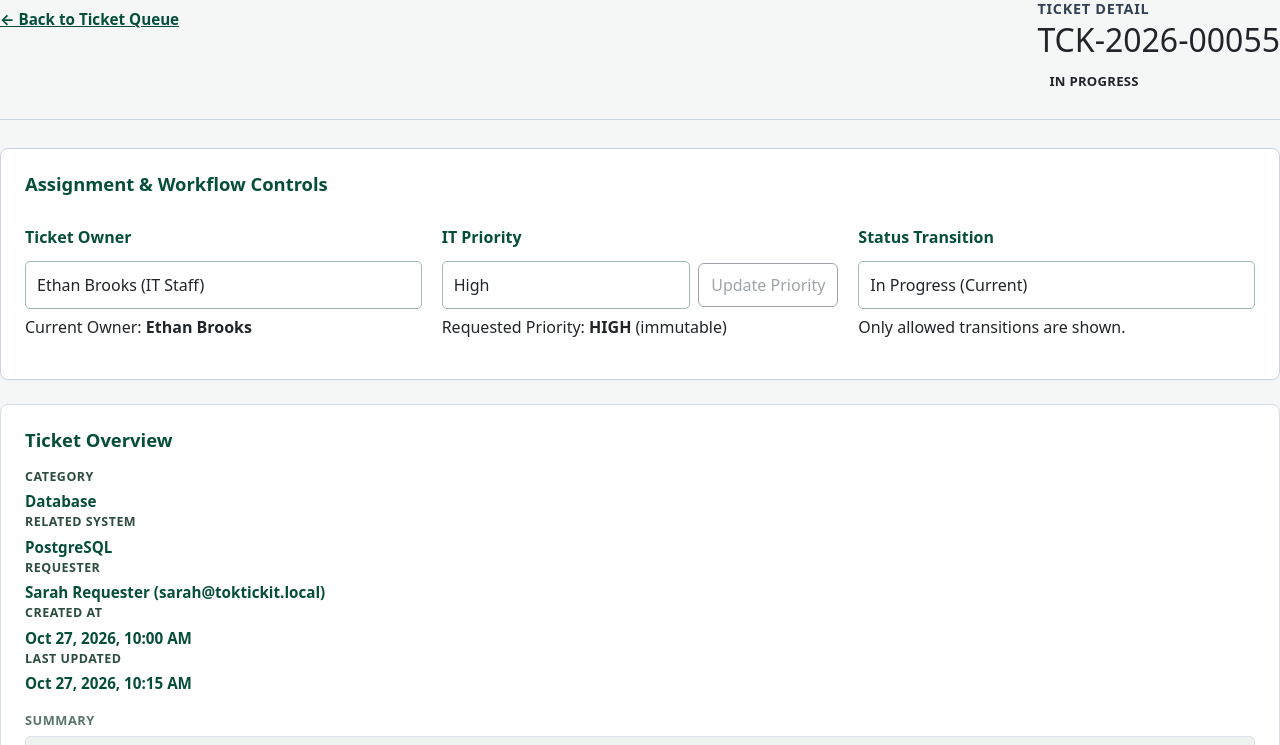
Test: Lab 4: TicketWorkflow Resolution Gate Feedback Tests › displays explicit resolution gate alert when resolving fails with unfulfilled prerequisites
This screenshot has width=1280, height=745.
Check: the heading "TCK-2026-00055" is shown, box 1038,21 -> 1279,60
Note: Select RESOLVED status from dropdown
Select "→ Resolved" in the dropdown labelled "Status Transition" at (1057, 285), box 858,261 -> 1255,309
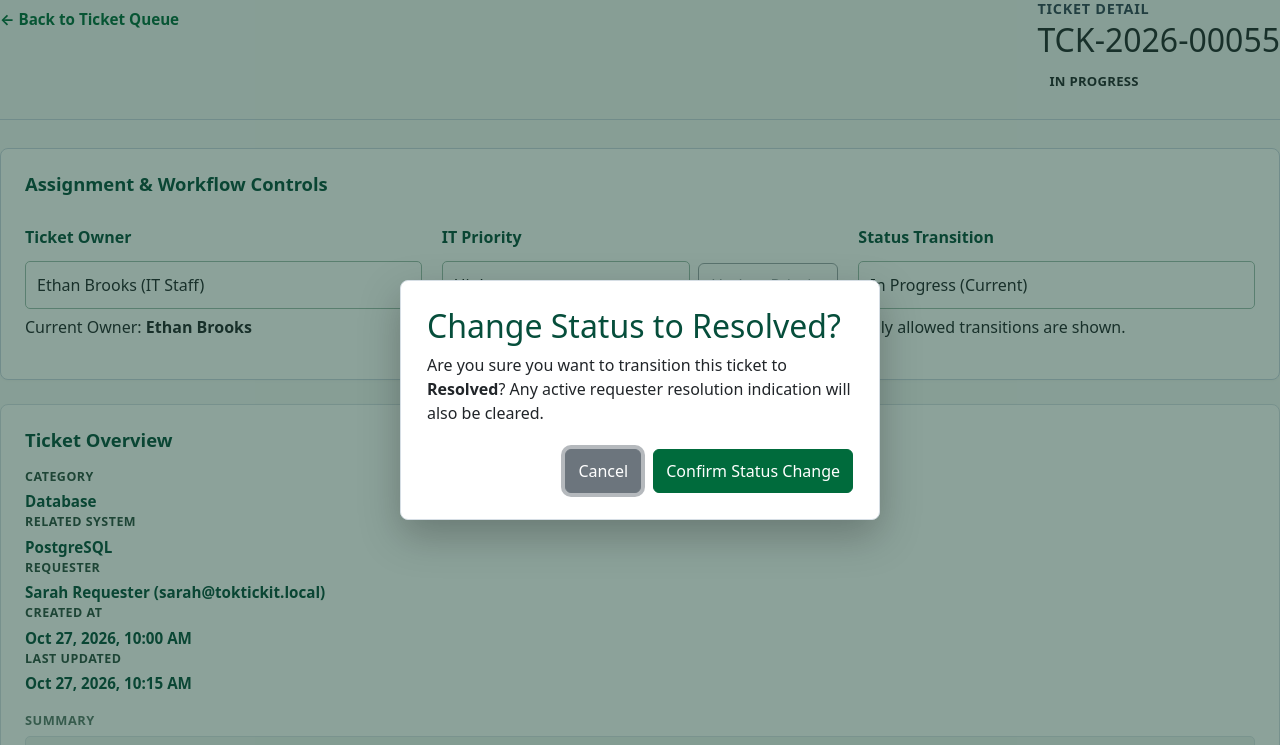
Check: the dialog "Change Status to Resolved" is shown, box 400,280 -> 880,520
Click the button "Confirm Status Change".
click(753, 471)  # box 653,449 -> 853,493
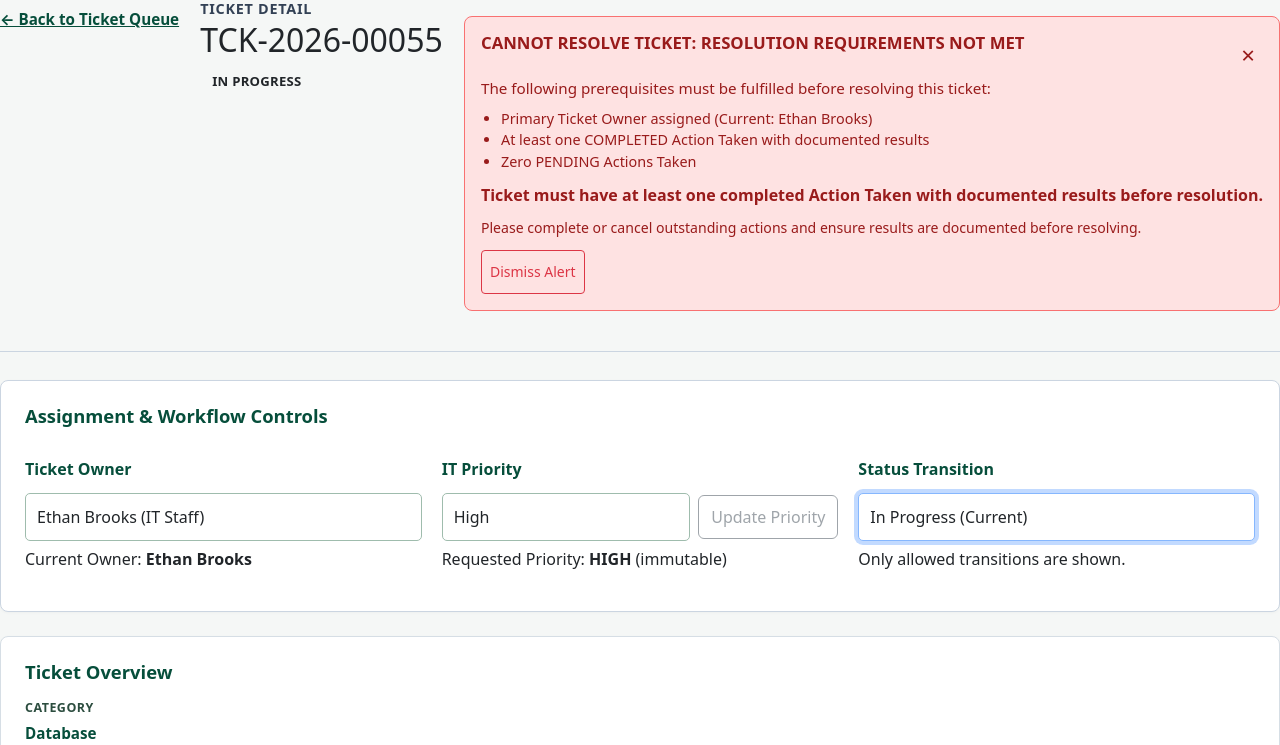
Check: the message is shown, box 464,16 -> 1279,311
Check: the heading "CANNOT RESOLVE TICKET: RESOLUTION REQUIREMENTS NOT MET" is shown, box 481,33 -> 1024,53
Check: the text "Ticket must have at least one completed Action Taken with documented results before resolution." is shown, box 481,184 -> 1263,206
Note: Dismiss Alert button works
Click the button named "Dismiss Alert".
click(1248, 55)  # box 1233,33 -> 1263,77
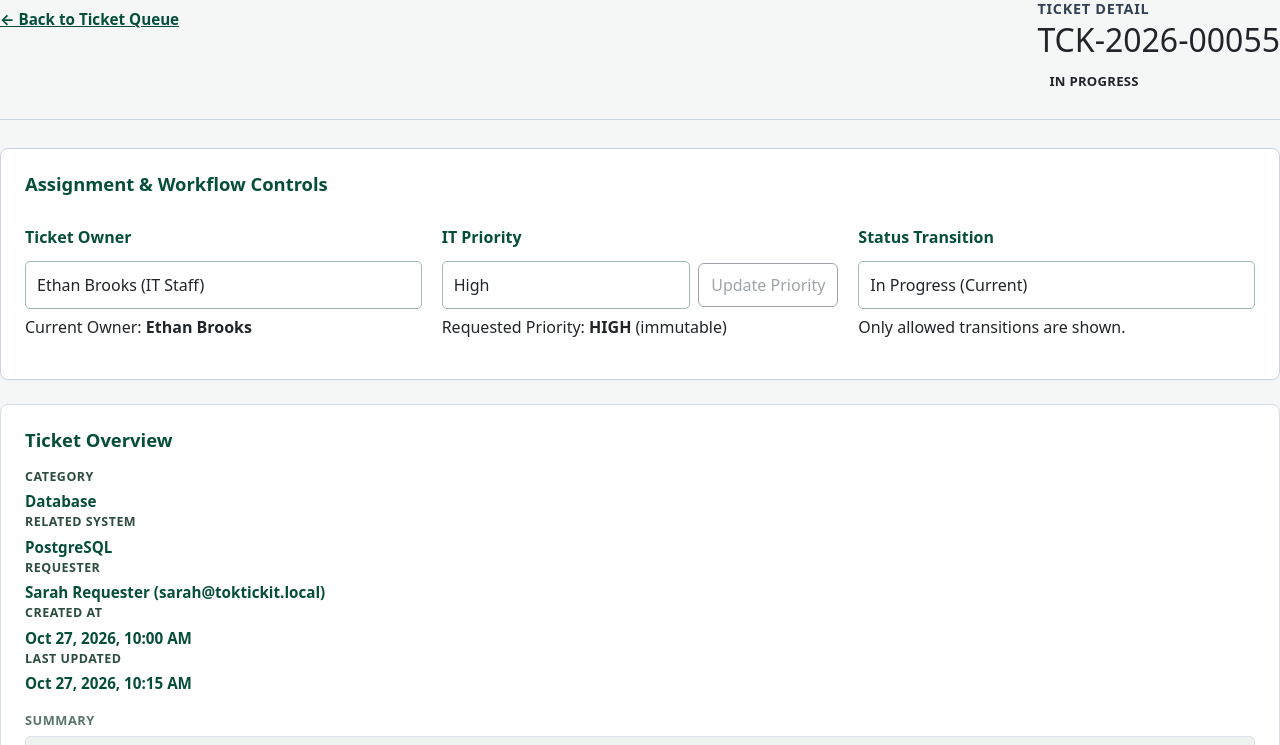
Check: the heading "CANNOT RESOLVE TICKET: RESOLUTION REQUIREMENTS NOT MET" is gone
